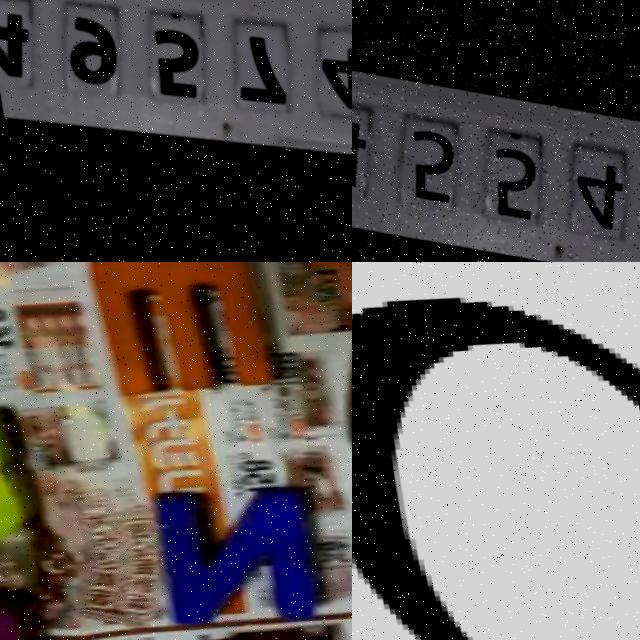4: (552, 138, 638, 246), (302, 19, 352, 127), (0, 0, 41, 96), (352, 103, 381, 207)
5: (464, 124, 551, 239), (383, 111, 470, 222), (132, 6, 212, 118)
7: (220, 13, 299, 119)
9: (50, 0, 129, 105)
N: (150, 468, 318, 633)
O: (352, 289, 640, 640)
R: (0, 395, 33, 555)
U: (179, 614, 344, 640)
W: (85, 262, 272, 404)
